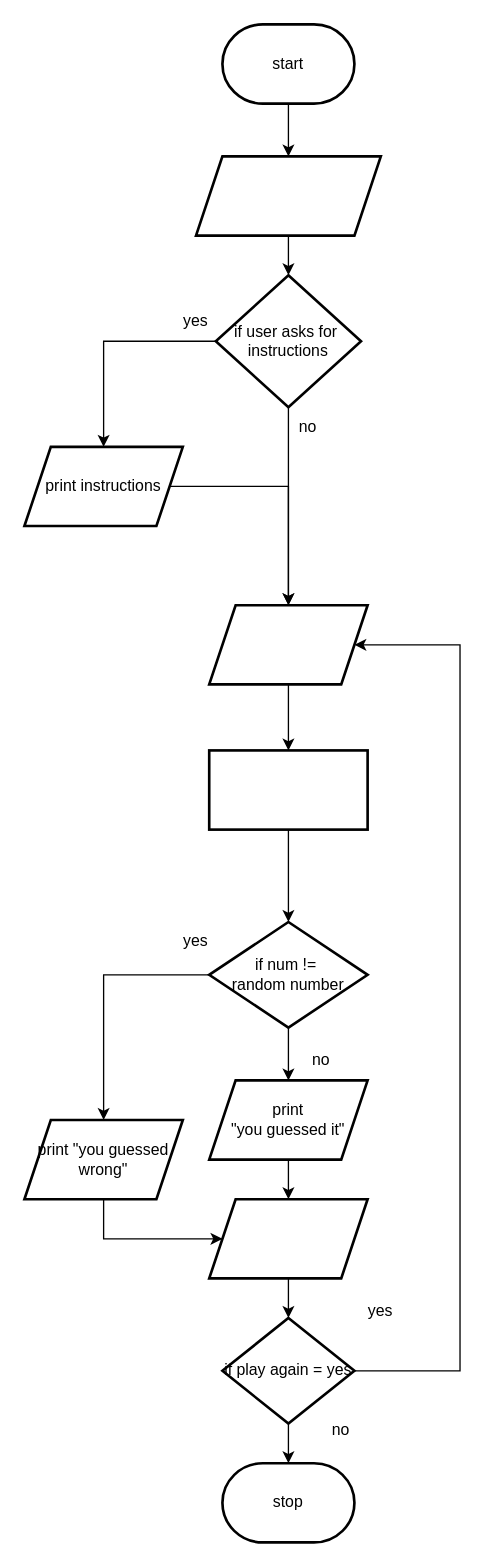
Image size: 494x1566. Some labels were removed from this diagram. The shapes that lost their labels are listed below. From the top down, each one's box as (x1, y1, x2, y2) in pixels, then its label:
(194, 154, 381, 236): get variables for limit and guess limit
(207, 603, 368, 685): get number 1-100
(207, 748, 368, 830): check how far away from answer through multiple if statements
(207, 1197, 368, 1279): input "play again"
